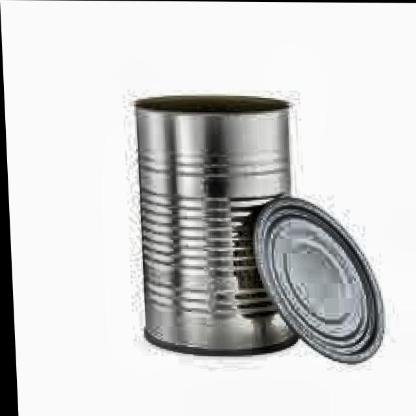Can: (127, 88, 304, 356), (249, 192, 390, 368)
